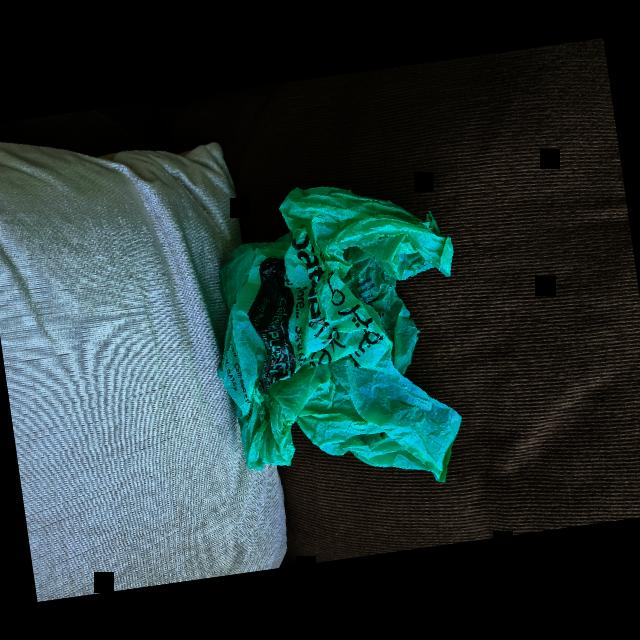plastic_bag: (189, 166, 484, 509)
